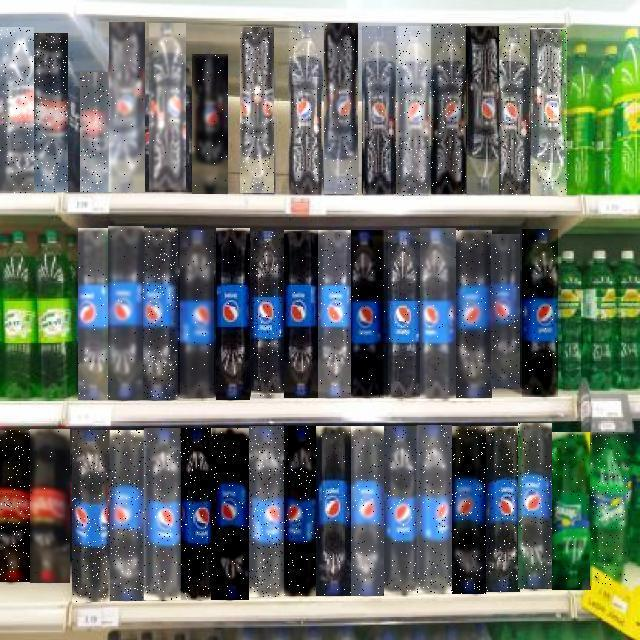Drinks: (72, 430, 111, 602), (144, 428, 182, 600), (108, 226, 144, 400), (149, 24, 186, 192), (144, 228, 180, 400), (552, 432, 591, 590), (30, 429, 70, 583), (111, 430, 147, 601), (249, 426, 285, 597), (109, 22, 145, 192), (396, 26, 432, 196), (431, 24, 467, 194), (500, 26, 536, 196), (421, 228, 457, 398), (316, 426, 352, 596), (362, 26, 398, 194), (534, 29, 570, 197), (456, 230, 492, 398), (522, 229, 558, 397), (214, 428, 249, 600), (417, 425, 452, 593), (590, 432, 628, 586), (216, 228, 250, 400), (182, 428, 216, 600), (289, 23, 323, 194), (324, 23, 358, 194), (466, 26, 500, 194), (181, 230, 215, 398), (284, 231, 318, 399), (352, 230, 386, 398), (384, 426, 418, 594), (452, 426, 486, 594), (0, 27, 34, 193), (241, 27, 275, 193), (486, 426, 520, 592), (519, 423, 553, 589), (351, 426, 384, 596), (318, 231, 351, 399), (251, 232, 284, 398), (284, 426, 316, 596), (34, 33, 68, 192), (388, 230, 420, 398), (78, 228, 108, 400), (192, 54, 228, 194), (0, 430, 31, 582), (491, 234, 520, 388), (80, 73, 111, 193)
